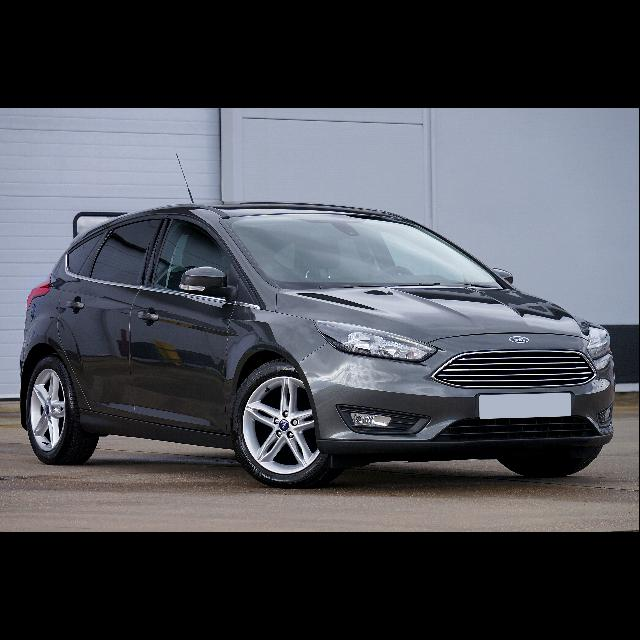cars: (11, 178, 625, 496)
